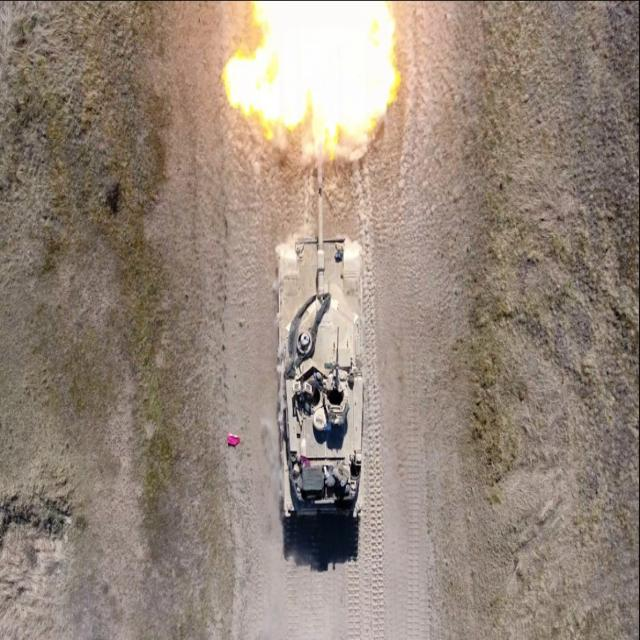tank: (276, 142, 366, 523)
